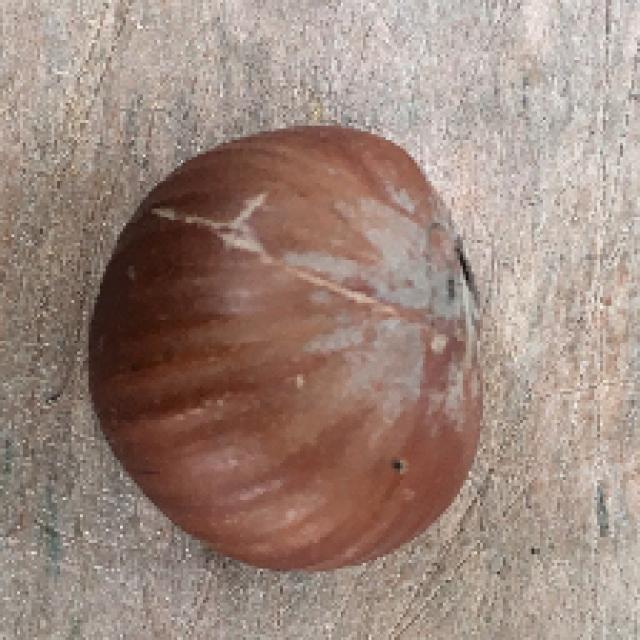qualityHazelnut: (83, 128, 490, 566)
